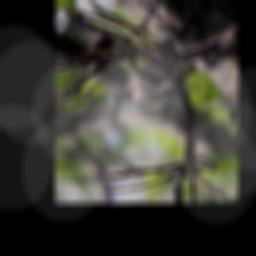Cuckoo: (104, 36, 224, 133)
